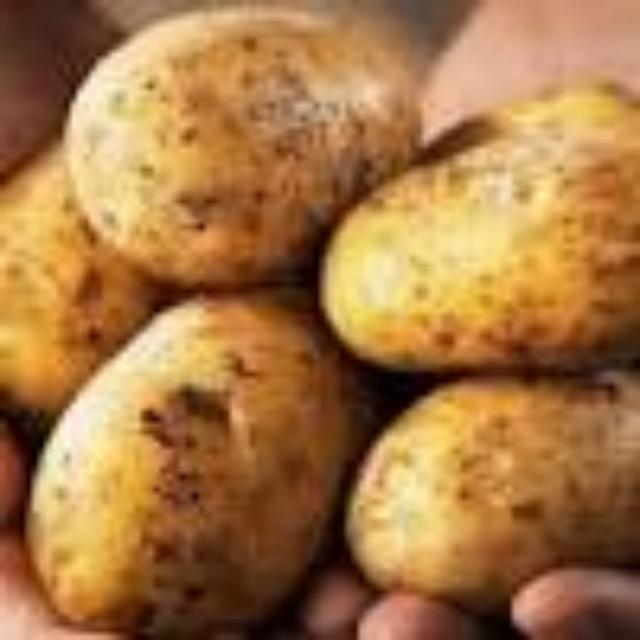Diseased-fungal potato: (24, 282, 420, 640), (67, 3, 441, 295)
